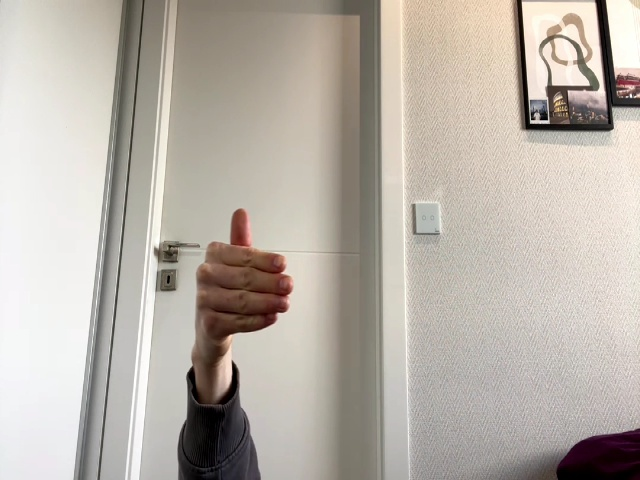M: (195, 208, 293, 362)
